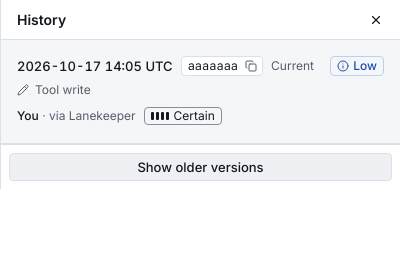
Test case: HistoryPanel › reads on when asked, and says when it has read all there is
Click the button "Show older versions".
click(200, 167)  # box [9,153,392,181]
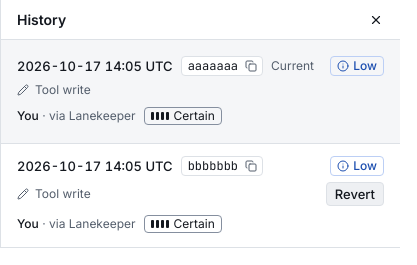
Check: the number of list items is 2, box [1,40,400,144]; [1,144,400,248]
Check: the button "Show older versions" is gone
